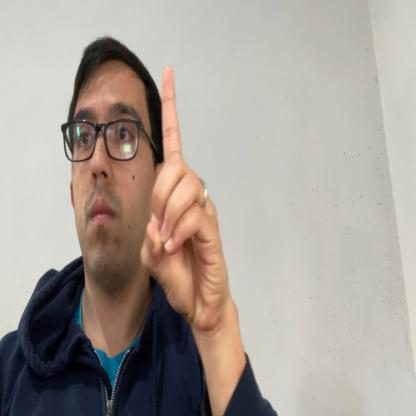D: (139, 64, 226, 330)
